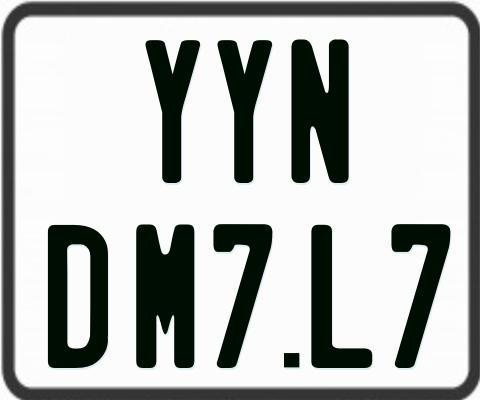7: (210, 224, 274, 373), (391, 223, 451, 367)
D: (45, 222, 105, 366)
L: (310, 223, 372, 368)
M: (136, 223, 199, 372)
N: (290, 36, 353, 184)
Y: (218, 39, 276, 186), (145, 37, 202, 186)
